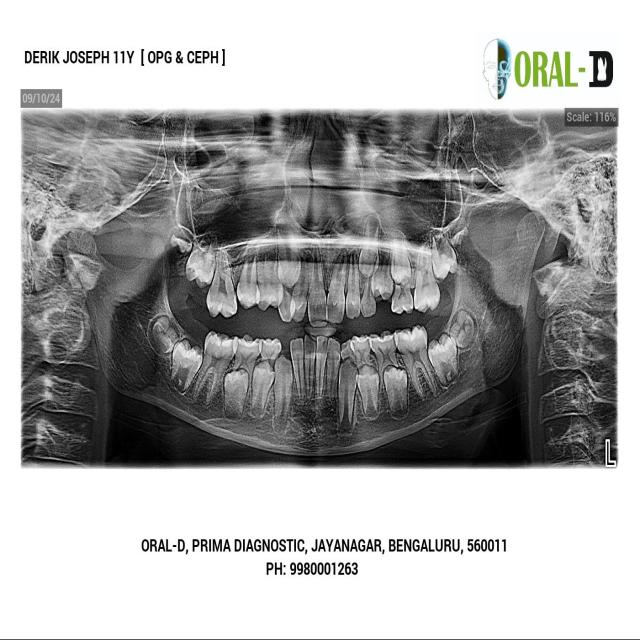Premolars: (350, 330, 376, 380)
